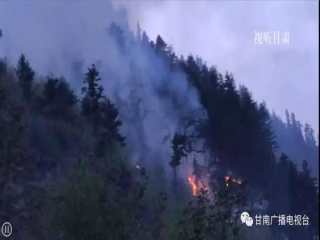fire: (185, 170, 217, 198)
smoke: (18, 7, 200, 173)
